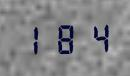eight: (50, 20, 80, 55)
four: (81, 19, 111, 54)
one: (18, 21, 48, 56)
